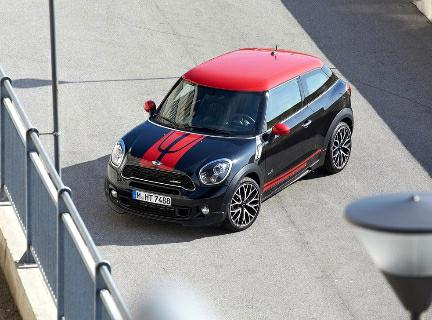MINI-JCWPACEMAN: (107, 46, 365, 228)
